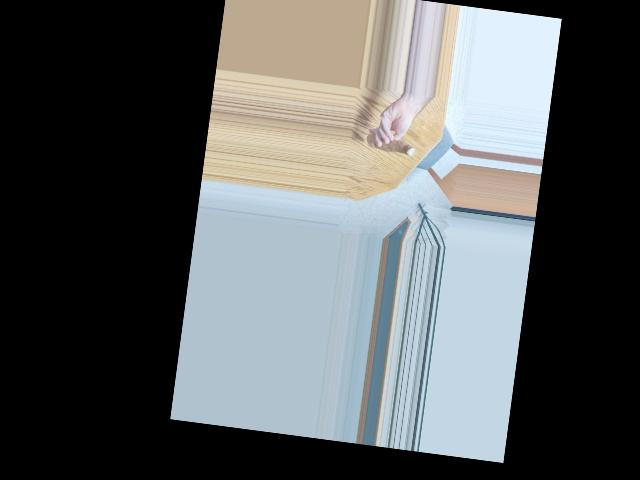sweet_potato: (365, 134, 420, 156)
